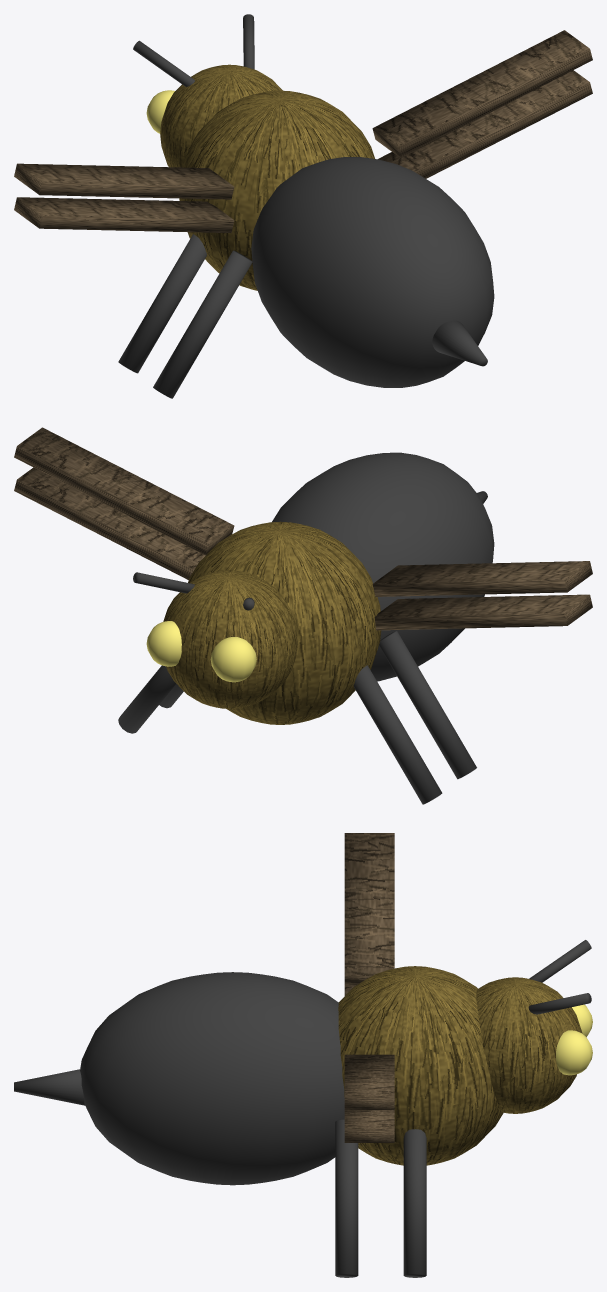
File: hornet-matriarch.glb
3 renders of one model, top to bottom at view 1: azimuth 30°, elevation 25°; view 2: azimuth 150°, elevation 25°; view 3: azimuth 270°, elevation 25°, orthographic.
Parts seen in each view (by area): view 1: Abdomen, Thorax, Wing.002, Wing, Wing.001, Wing.003, Head, Leg.001, Leg, Stinger, Antenna, Eye (+1 smaller); view 2: Abdomen, Thorax, Head, Wing.002, Wing, Wing.001, Wing.003, Leg.001, Leg, Leg.002, Eye, Eye.001 (+1 smaller); view 3: Abdomen, Thorax, Head, Wing, Leg.002, Leg.003, Wing.002, Wing.003, Stinger, Eye.001, Antenna, Antenna.001.
Boxes of the visible parts, x1=… form: Abdomen: x1=251, y1=157, x2=494, y2=387; Thorax: x1=179, y1=90, x2=374, y2=290; Wing.002: x1=372, y1=30, x2=592, y2=157; Wing: x1=14, y1=163, x2=234, y2=199; Wing.001: x1=14, y1=197, x2=234, y2=233; Wing.003: x1=378, y1=70, x2=592, y2=178; Head: x1=160, y1=64, x2=282, y2=167; Leg.001: x1=153, y1=250, x2=252, y2=398; Leg: x1=118, y1=234, x2=206, y2=373; Stinger: x1=432, y1=320, x2=487, y2=366; Antenna: x1=133, y1=40, x2=194, y2=86; Eye: x1=146, y1=90, x2=174, y2=133; Abdomen: x1=272, y1=452, x2=494, y2=681; Thorax: x1=188, y1=521, x2=381, y2=724; Head: x1=163, y1=570, x2=297, y2=708; Wing.002: x1=14, y1=427, x2=234, y2=555; Wing: x1=372, y1=561, x2=592, y2=596; Wing.001: x1=374, y1=594, x2=592, y2=630; Wing.003: x1=14, y1=467, x2=205, y2=579; Leg.001: x1=379, y1=631, x2=476, y2=779; Leg: x1=353, y1=665, x2=442, y2=804; Leg.002: x1=118, y1=665, x2=176, y2=733; Eye: x1=210, y1=637, x2=256, y2=682; Eye.001: x1=146, y1=621, x2=181, y2=666; Abdomen: x1=80, y1=972, x2=344, y2=1185; Thorax: x1=338, y1=966, x2=503, y2=1165; Head: x1=476, y1=977, x2=582, y2=1113; Wing: x1=344, y1=833, x2=394, y2=986; Leg.002: x1=403, y1=1129, x2=426, y2=1277; Leg.003: x1=335, y1=1119, x2=358, y2=1277; Wing.002: x1=344, y1=1054, x2=394, y2=1109; Wing.003: x1=344, y1=1110, x2=394, y2=1142; Stinger: x1=14, y1=1069, x2=84, y2=1105; Eye.001: x1=556, y1=1030, x2=592, y2=1075; Antenna: x1=529, y1=940, x2=591, y2=982; Antenna.001: x1=528, y1=993, x2=591, y2=1014.
Size of the model in its own units: 2.34 by 1 by 2.15.
Materials: 4 (2 with a texture image).
